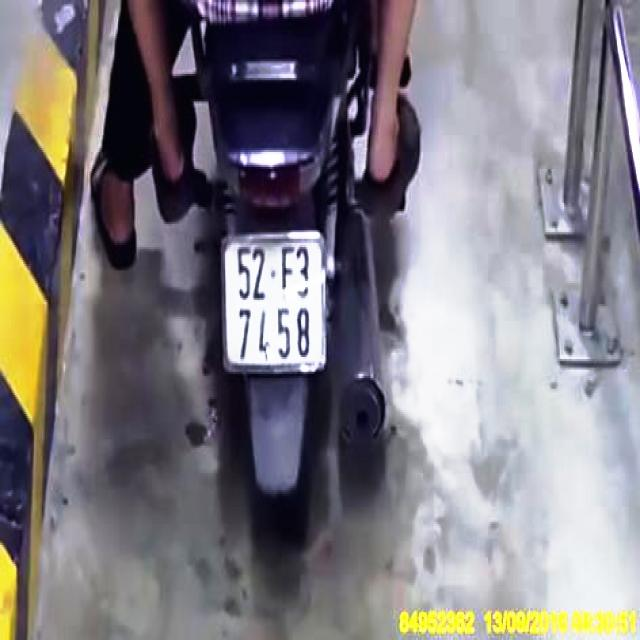license_plate: (226, 235, 325, 363)
